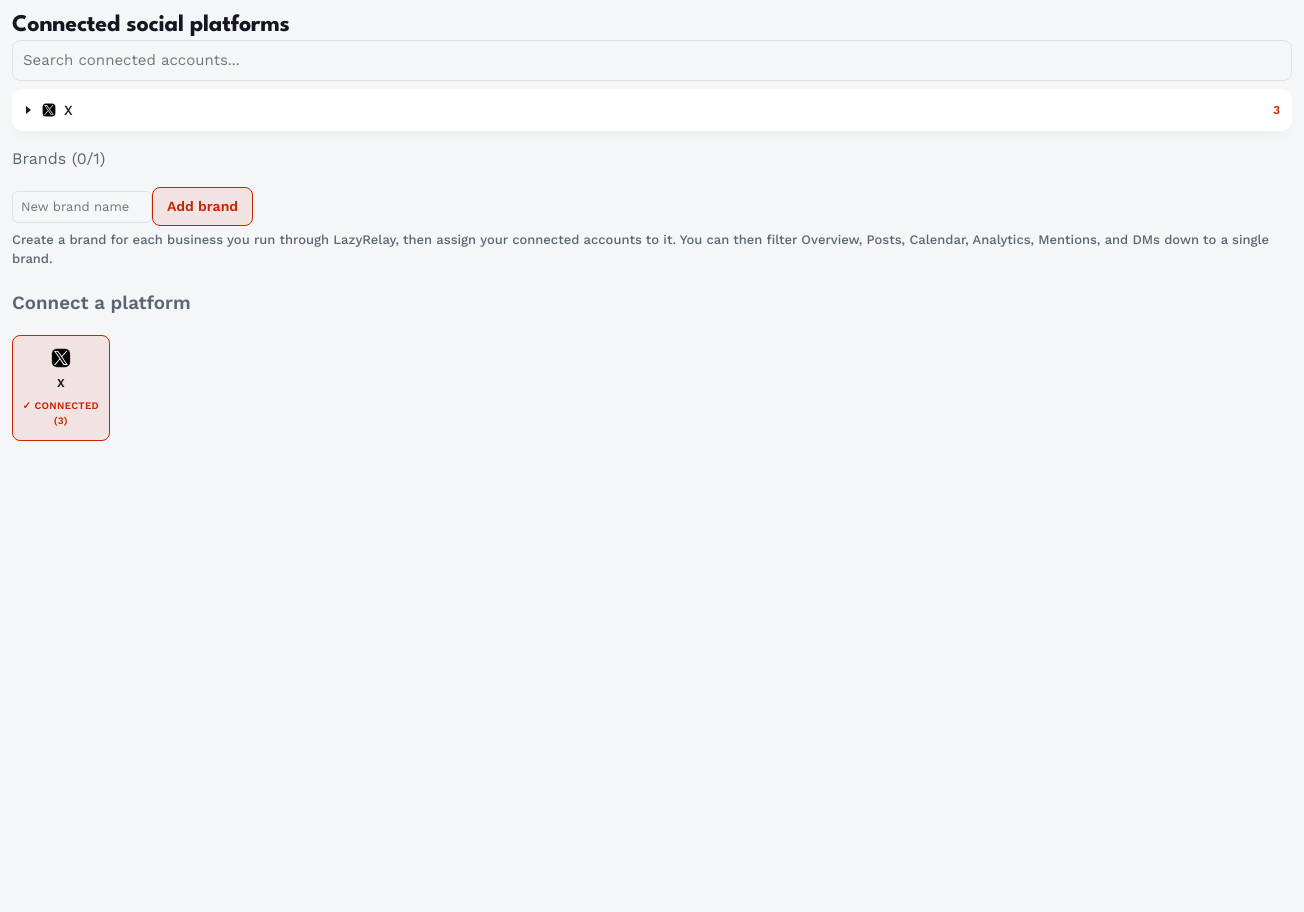
Test case: the X tile › shows a badge on a connected X account whose keys were refused or ran out of credit
Click the button with class "account-picker-group-header" at (29, 110), box [18, 95, 1286, 125]
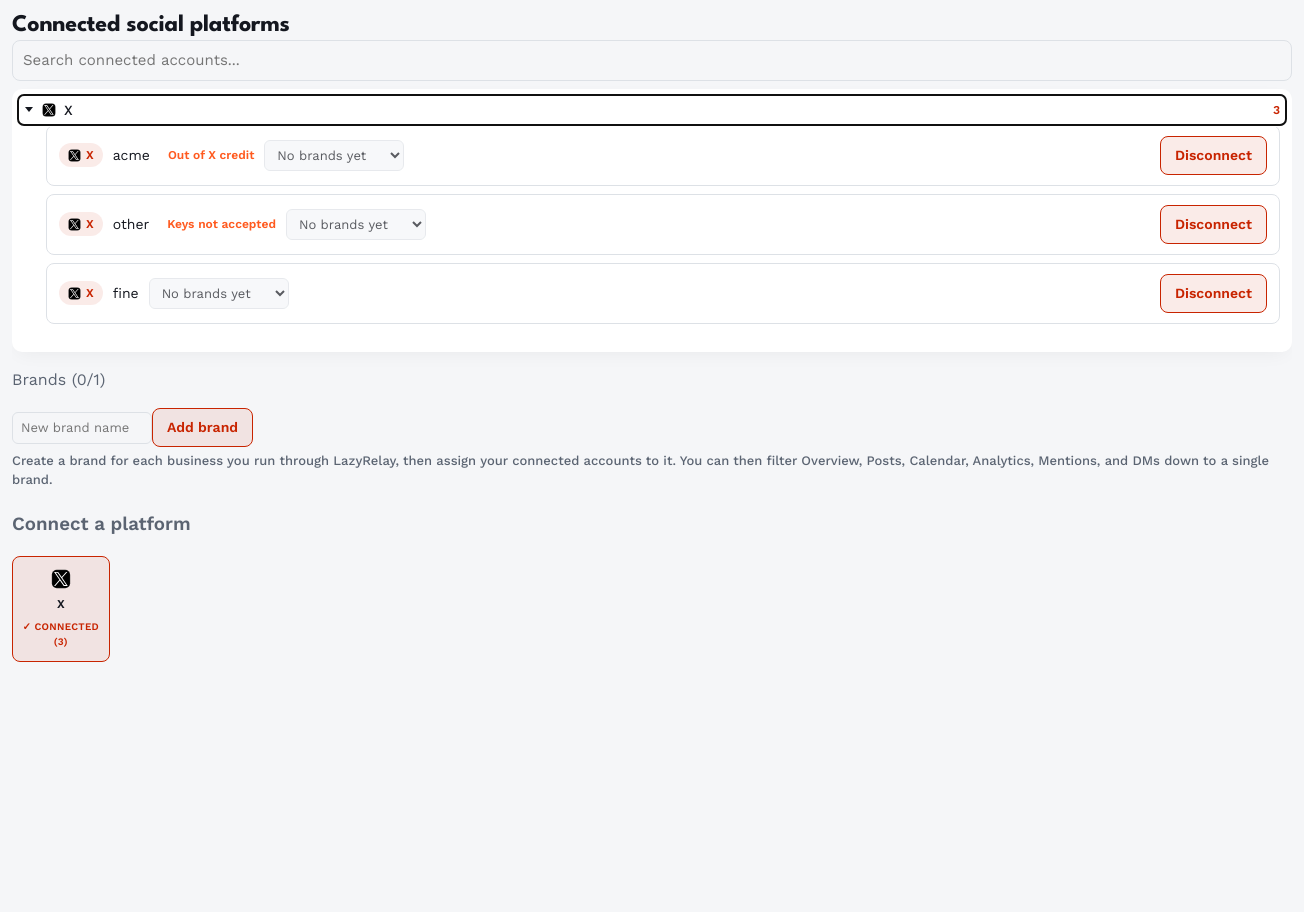
Check: the text "Out of X credit" is shown once, box [168, 146, 254, 164]
Check: the text "Keys not accepted" is shown once, box [167, 215, 276, 233]
